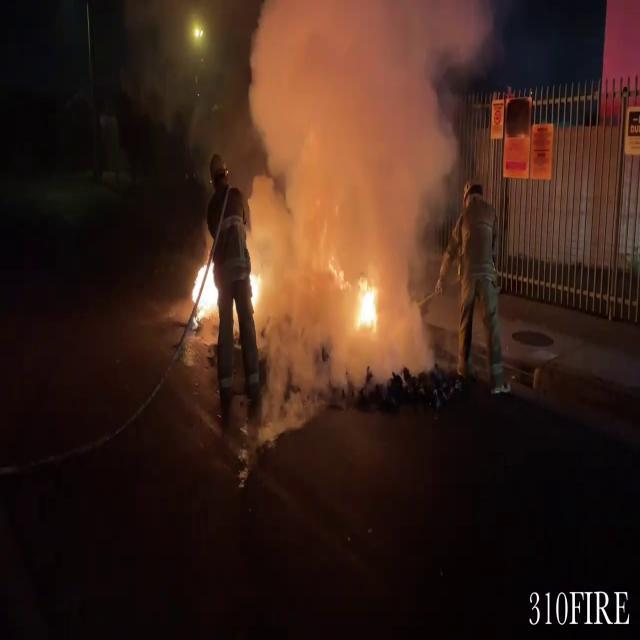Fire: (186, 238, 224, 326), (349, 272, 384, 340), (246, 258, 266, 322)
Smoke: (236, 1, 477, 367)
